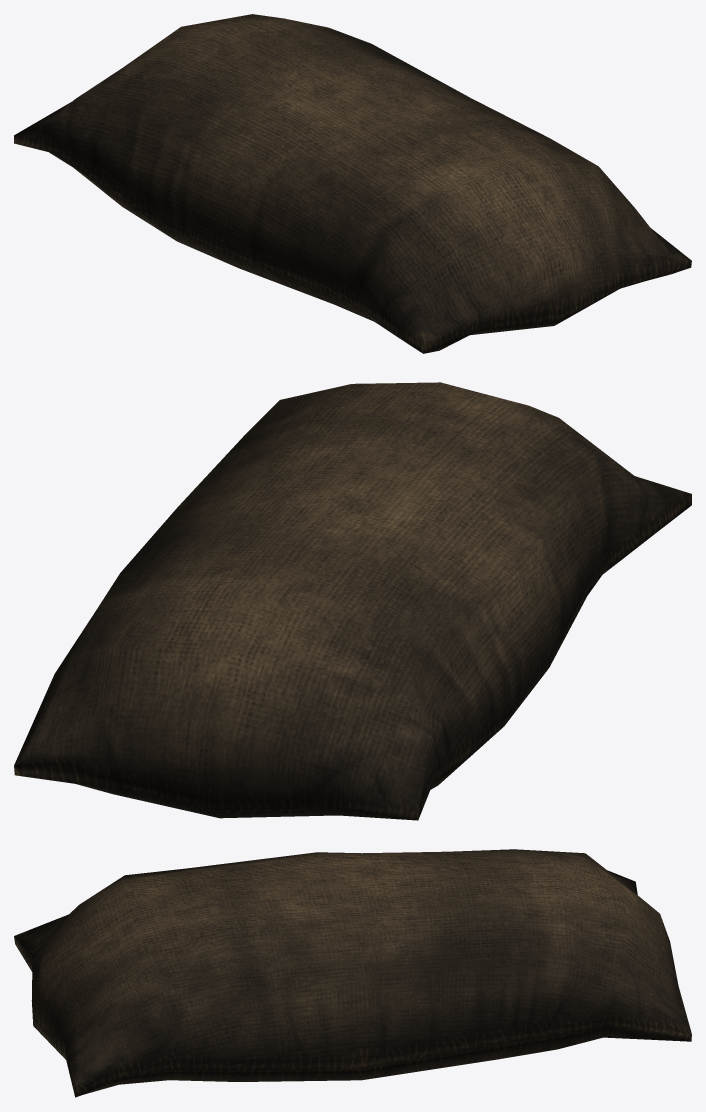
Rendered from Sack_B_01.FBX.
The picture shows the model from 3 angles, top to bottom: view 1: azimuth 30°, elevation 25°; view 2: azimuth 150°, elevation 25°; view 3: azimuth 270°, elevation 25°; orthographic projection. The views are drawn at different scales.
Visible parts, largest first — view 1: Sack_B_01; view 2: Sack_B_01; view 3: Sack_B_01.
Part boxes in pixels (box(x1,y1,x2,y2)): Sack_B_01: box(14, 14, 691, 353); Sack_B_01: box(14, 382, 691, 820); Sack_B_01: box(14, 849, 691, 1097).
Size of the model in its own units: 53.01 by 19.38 by 78.63.
